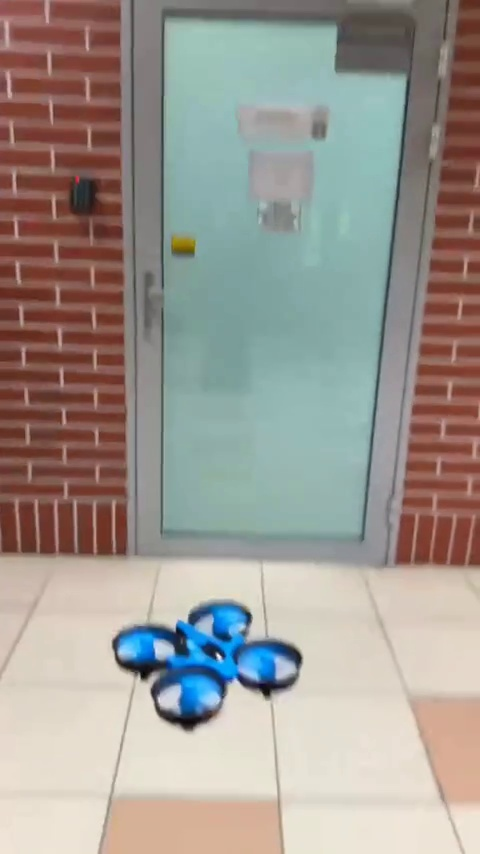drone: (110, 596, 300, 734)
